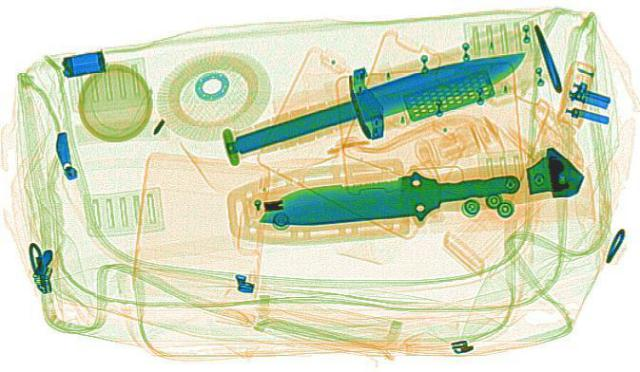Knife: (218, 40, 540, 159), (249, 164, 527, 230)
